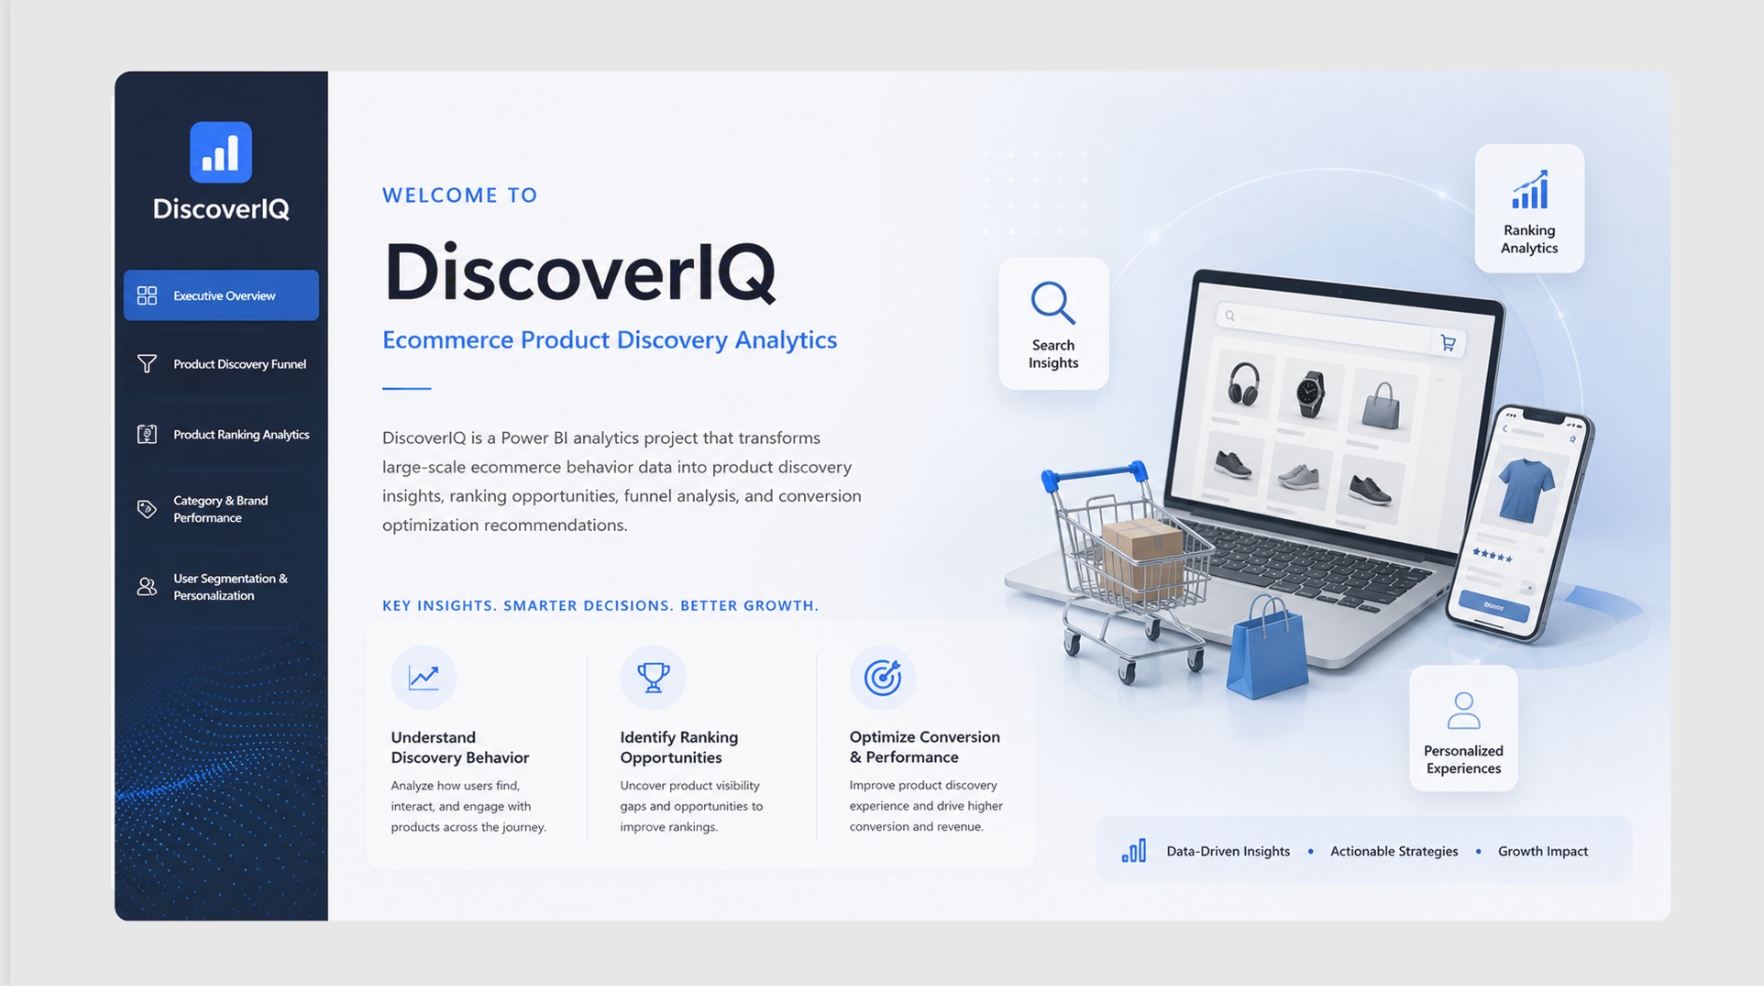

What the dashboard file says about the page in this screenshot:
{"tool":"powerbi","page":{"name":"Home Page","canvas":[1920,1080],"ordinal":0},"visuals":[{"type":"actionButton","box":[124.4,296.7,212.2,55.6],"z":0},{"type":"actionButton","box":[124.4,373.3,212.2,55.6],"z":1},{"type":"actionButton","box":[124.4,452.8,212.2,55.6],"z":2},{"type":"actionButton","box":[124.4,527.8,212.2,55.6],"z":3},{"type":"actionButton","box":[124.4,612.2,212.2,55.6],"z":4}]}

Visuals, with their boxes in screenshot pixels (x1, y1, x2, y2), scaled from the page's 1920x1080 canvas onto the 1764x986 screenshot:
actionButton: <box>114,271,309,322</box>
actionButton: <box>114,341,309,392</box>
actionButton: <box>114,413,309,464</box>
actionButton: <box>114,482,309,533</box>
actionButton: <box>114,559,309,610</box>
